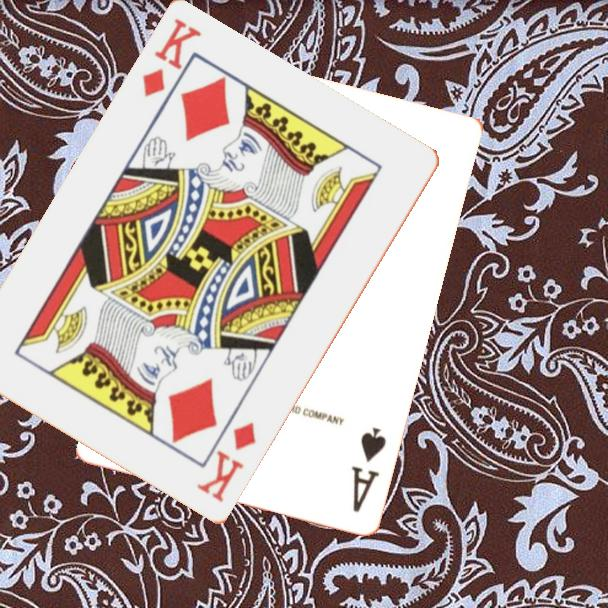d13: (193, 419, 259, 506), (139, 15, 205, 101)
s01: (347, 423, 389, 515)
